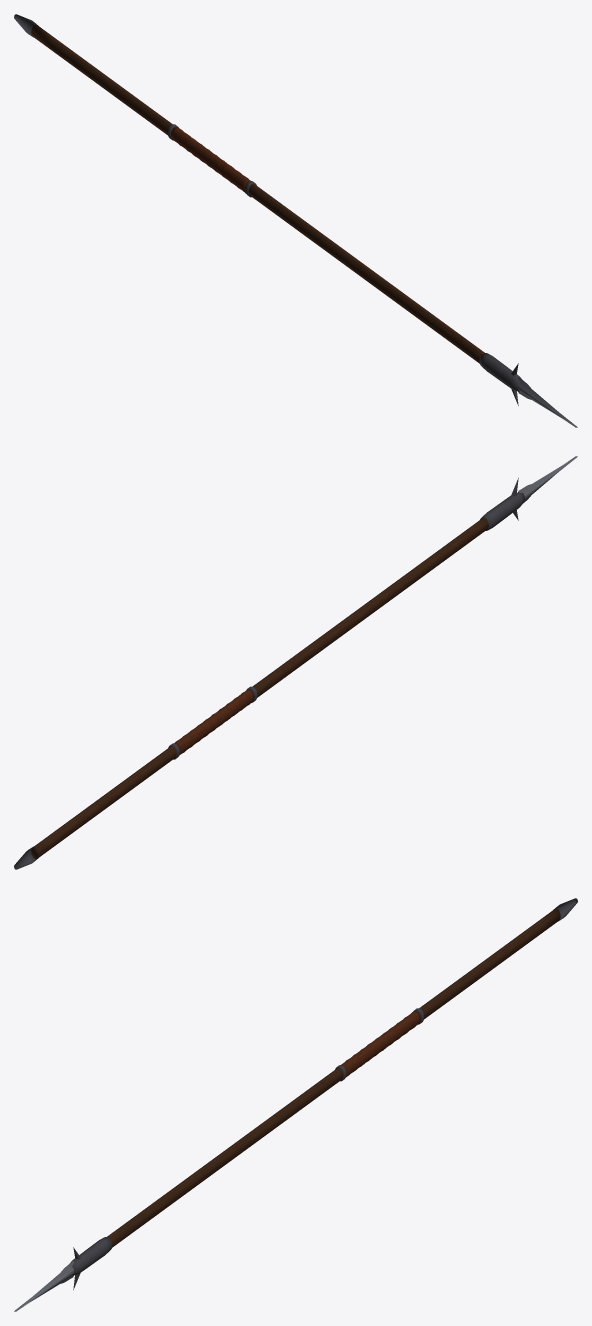
File: weapon_ferry_pike.glb
3 renders of one model, top to bottom at view 1: azimuth 30°, elevation 25°; view 2: azimuth 150°, elevation 25°; view 3: azimuth 330°, elevation 25°, orthographic.
Visible parts, largest first — view 1: ferry_pike; view 2: ferry_pike; view 3: ferry_pike.
Part boxes in pixels (left/top/right/bottom): ferry_pike: left=14, top=14, right=577, bottom=427; ferry_pike: left=14, top=456, right=577, bottom=869; ferry_pike: left=14, top=898, right=577, bottom=1311.
Bounding box in the file's own units: 0.0288 × 0.1 × 2.31.
4 materials, 4 textured.
